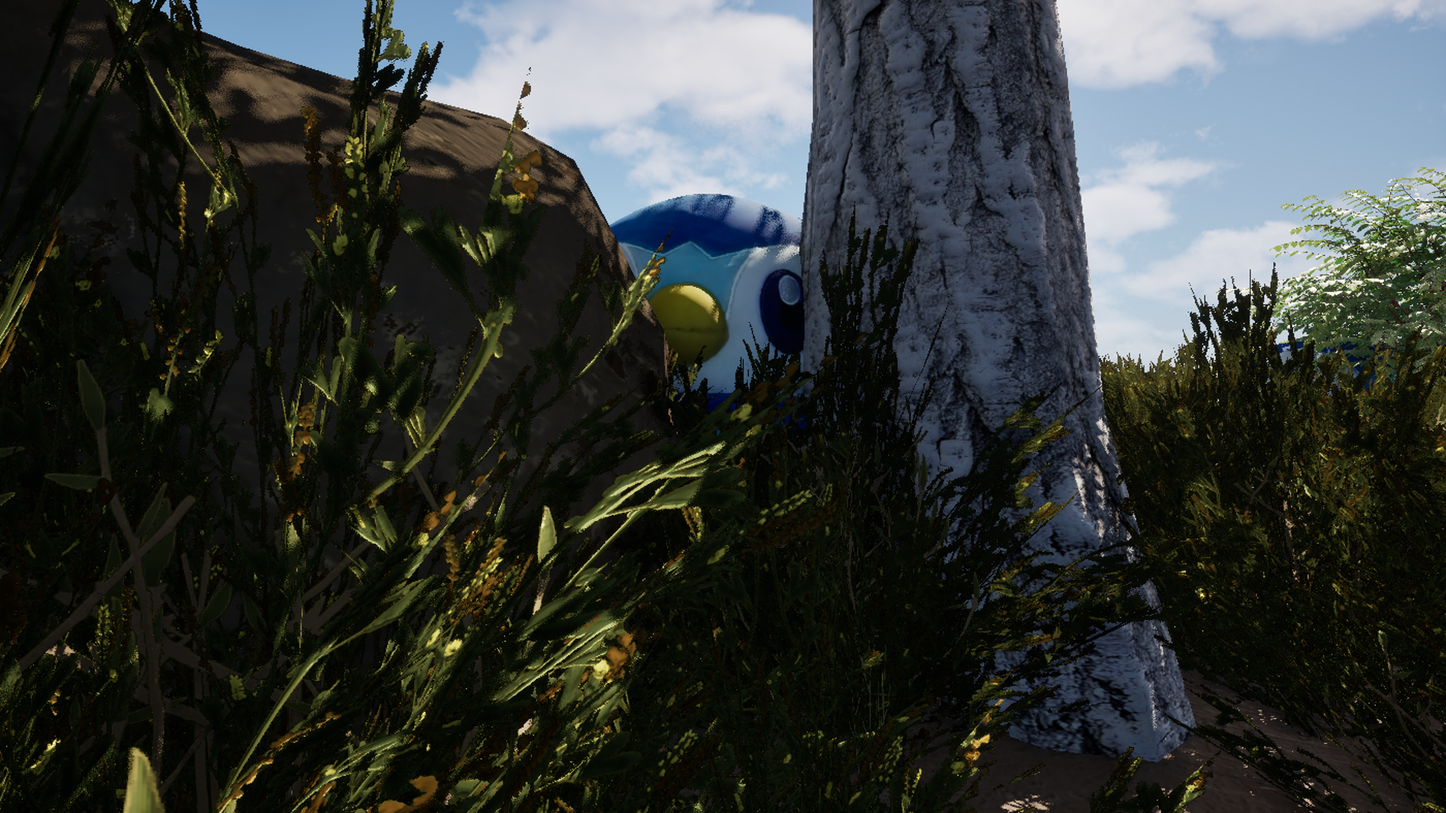Piplup: (346, 0, 1125, 813)
